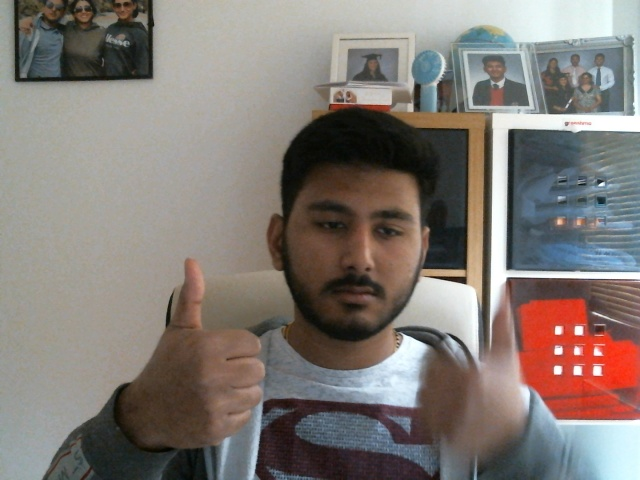good: (160, 256, 264, 442), (419, 304, 525, 458)
